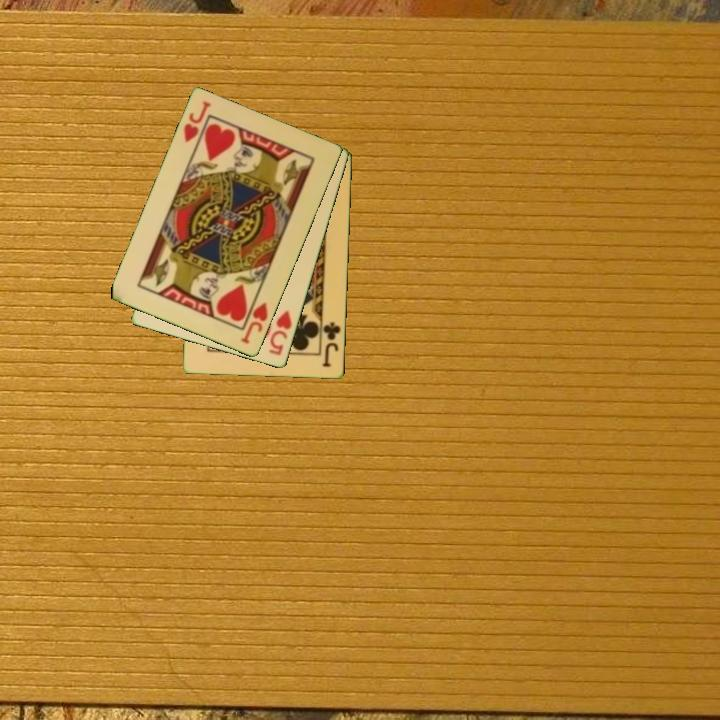5h: (266, 307, 295, 358)
Jc: (319, 319, 344, 370)
Jh: (237, 292, 271, 347), (180, 98, 214, 146)
